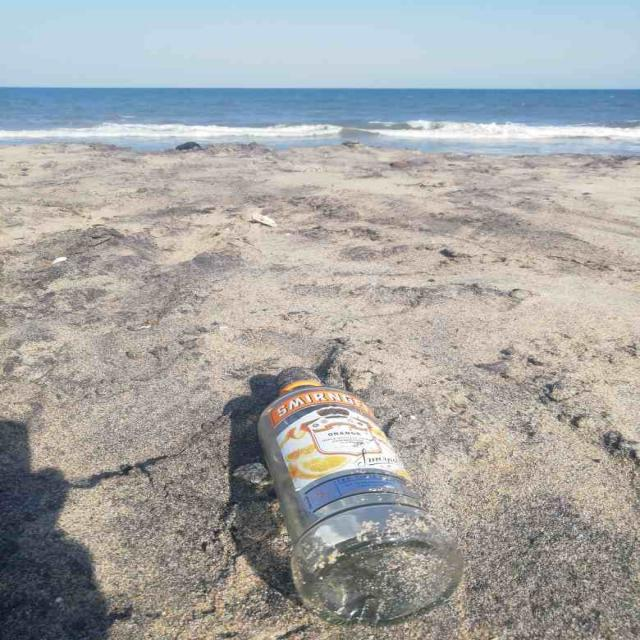glass: (258, 368, 464, 626)
